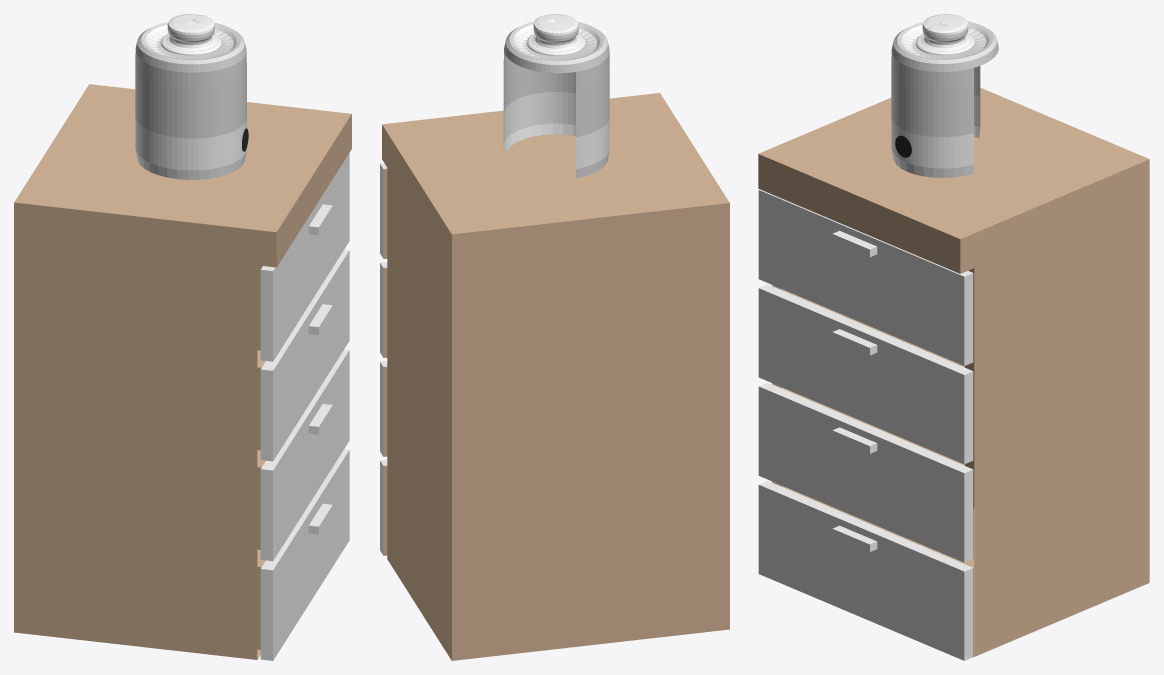
Rendered from Drawer.gltf.
3 views of the same model, side by side, from view 1: azimuth 30°, elevation 25°; view 2: azimuth 150°, elevation 25°; view 3: azimuth 270°, elevation 25° (orthographic).
Visible parts, largest first — view 1: DrawerPurifier; view 2: DrawerPurifier; view 3: DrawerPurifier.
Boxes of the visible parts, <box> form: DrawerPurifier: <box>14,14,351,660</box>; DrawerPurifier: <box>380,14,729,660</box>; DrawerPurifier: <box>758,14,1149,660</box>.
Size of the model in its own units: 1.44 by 2.27 by 1.44.
